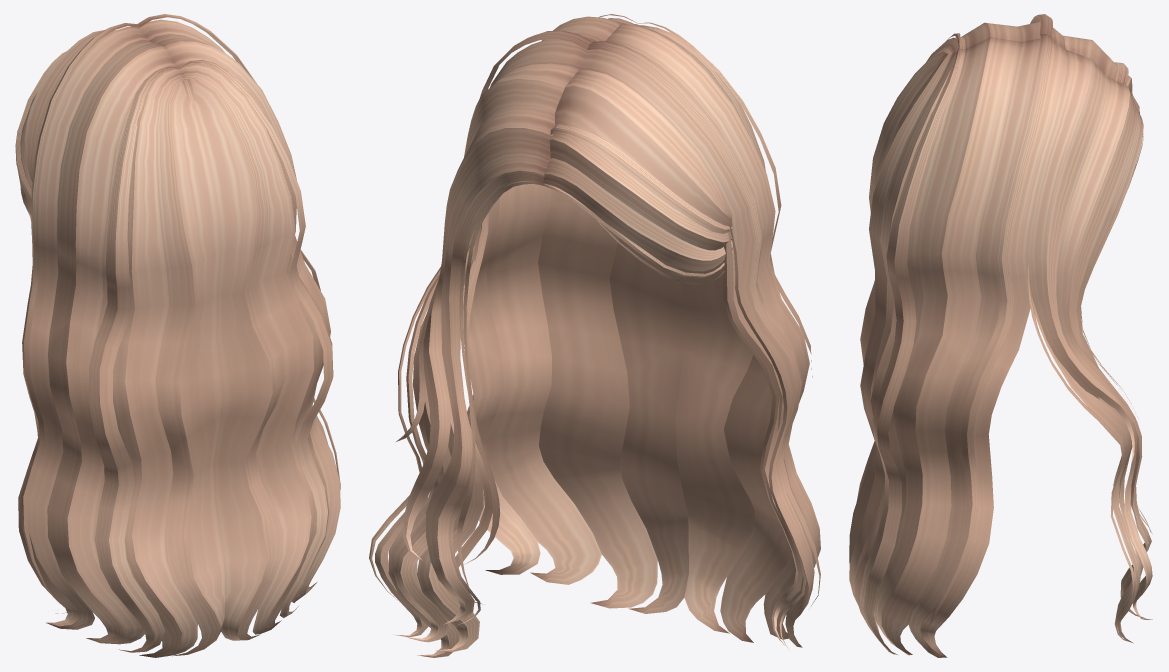
3 renders of one model, left to right at view 1: azimuth 30°, elevation 25°; view 2: azimuth 150°, elevation 25°; view 3: azimuth 270°, elevation 25°, orthographic. The views are drawn at different scales.
Parts seen in each view (by area): view 1: geometry_0; view 2: geometry_0; view 3: geometry_0.
Boxes of the visible parts, left/top/right/bottom form: geometry_0: left=15, top=14, right=340, bottom=657; geometry_0: left=369, top=14, right=820, bottom=657; geometry_0: left=849, top=14, right=1152, bottom=657.
Bounding box in the file's own units: 1.88 × 3.28 × 1.53.
Materials: 1 (1 with a texture image).
